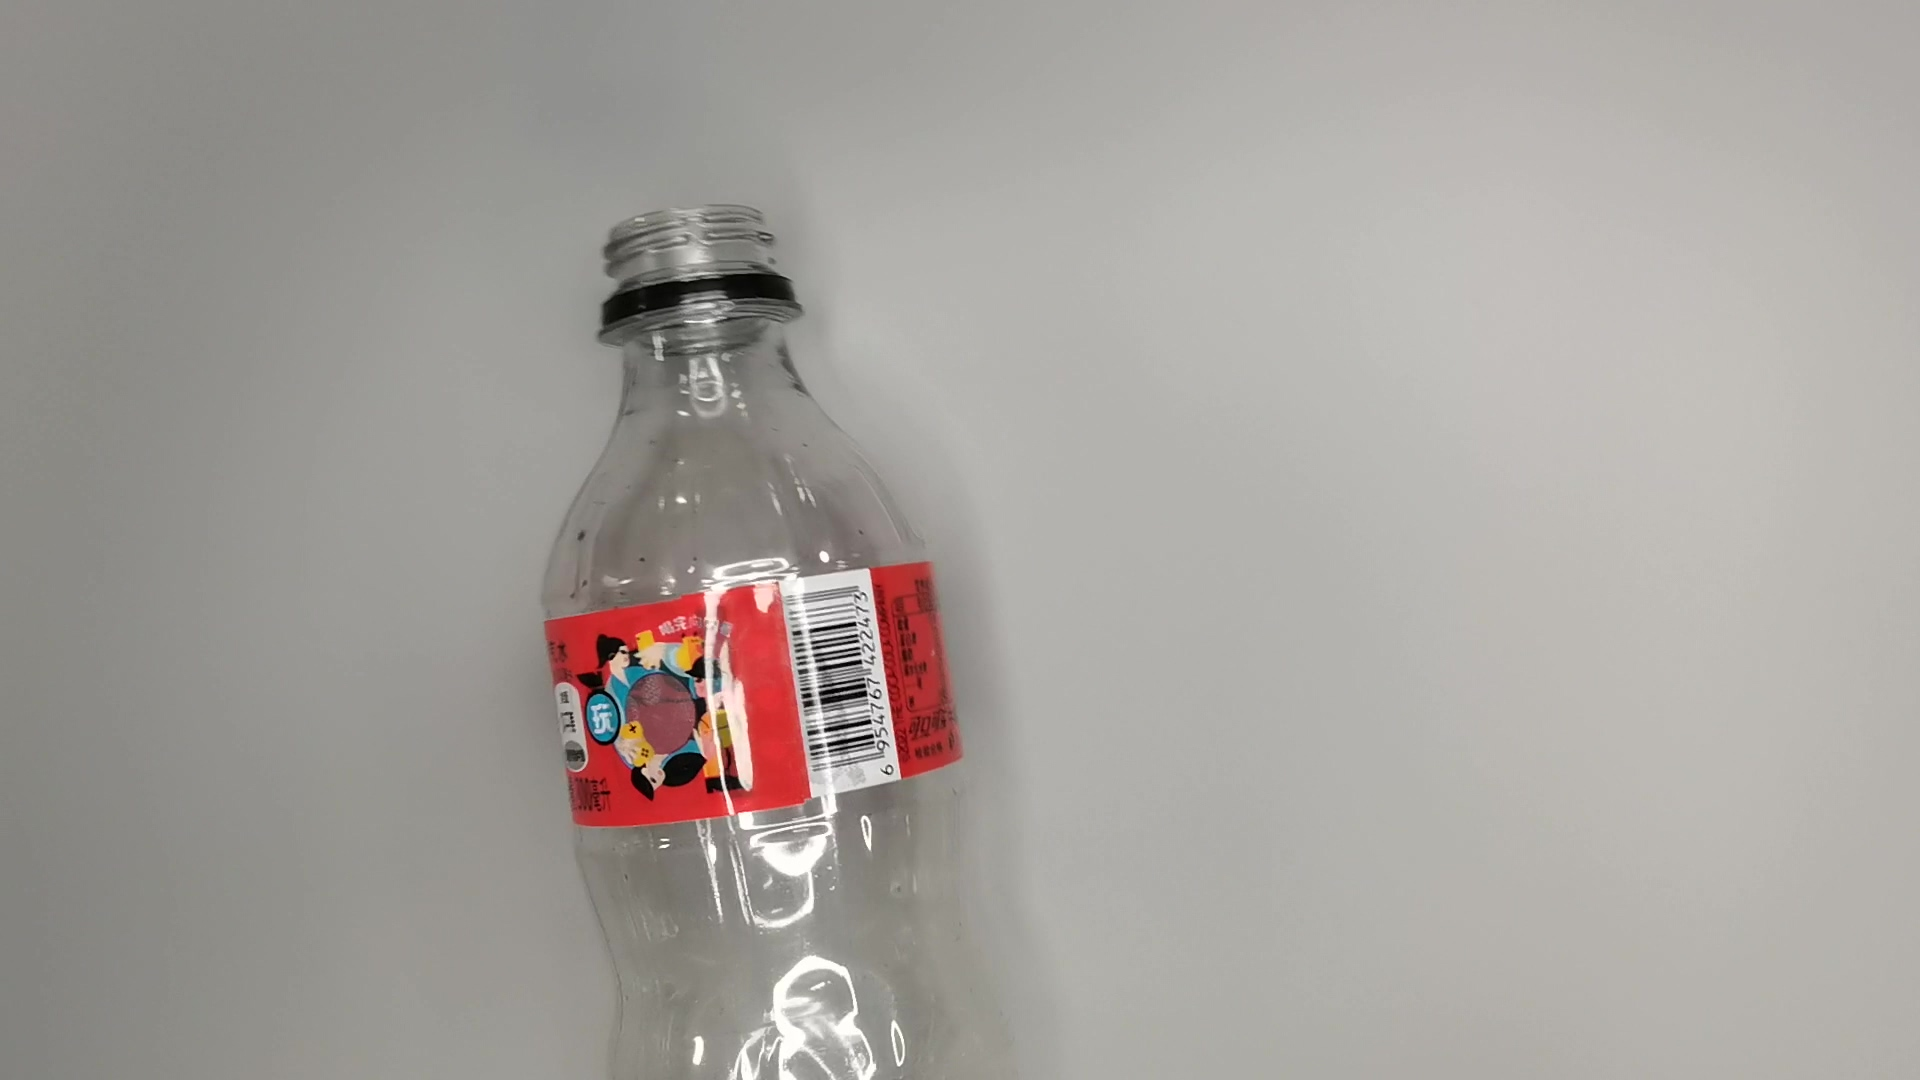bottle: (529, 200, 1044, 1080)
